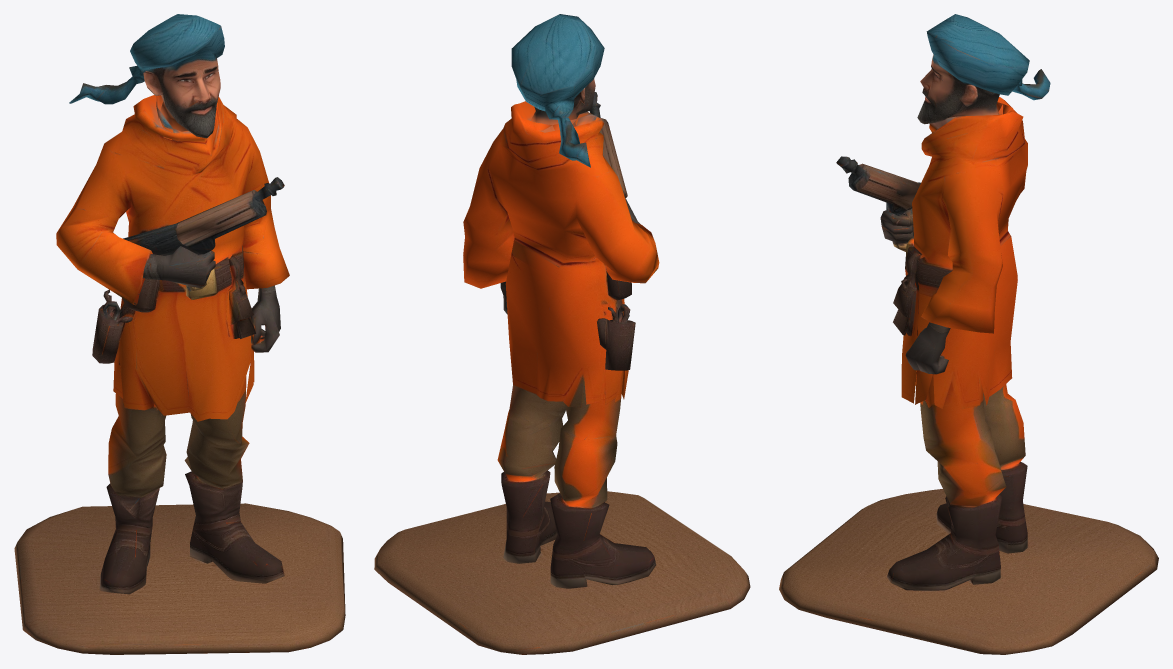
Rendered from rival-desert.glb.
The picture shows the model from 3 angles, left to right: view 1: azimuth 30°, elevation 25°; view 2: azimuth 150°, elevation 25°; view 3: azimuth 270°, elevation 25°; orthographic projection. The views are drawn at different scales.
Bounding box in the file's own units: 0.5878 × 0.9521 × 0.5903.
Materials: 1 (1 with a texture image).
